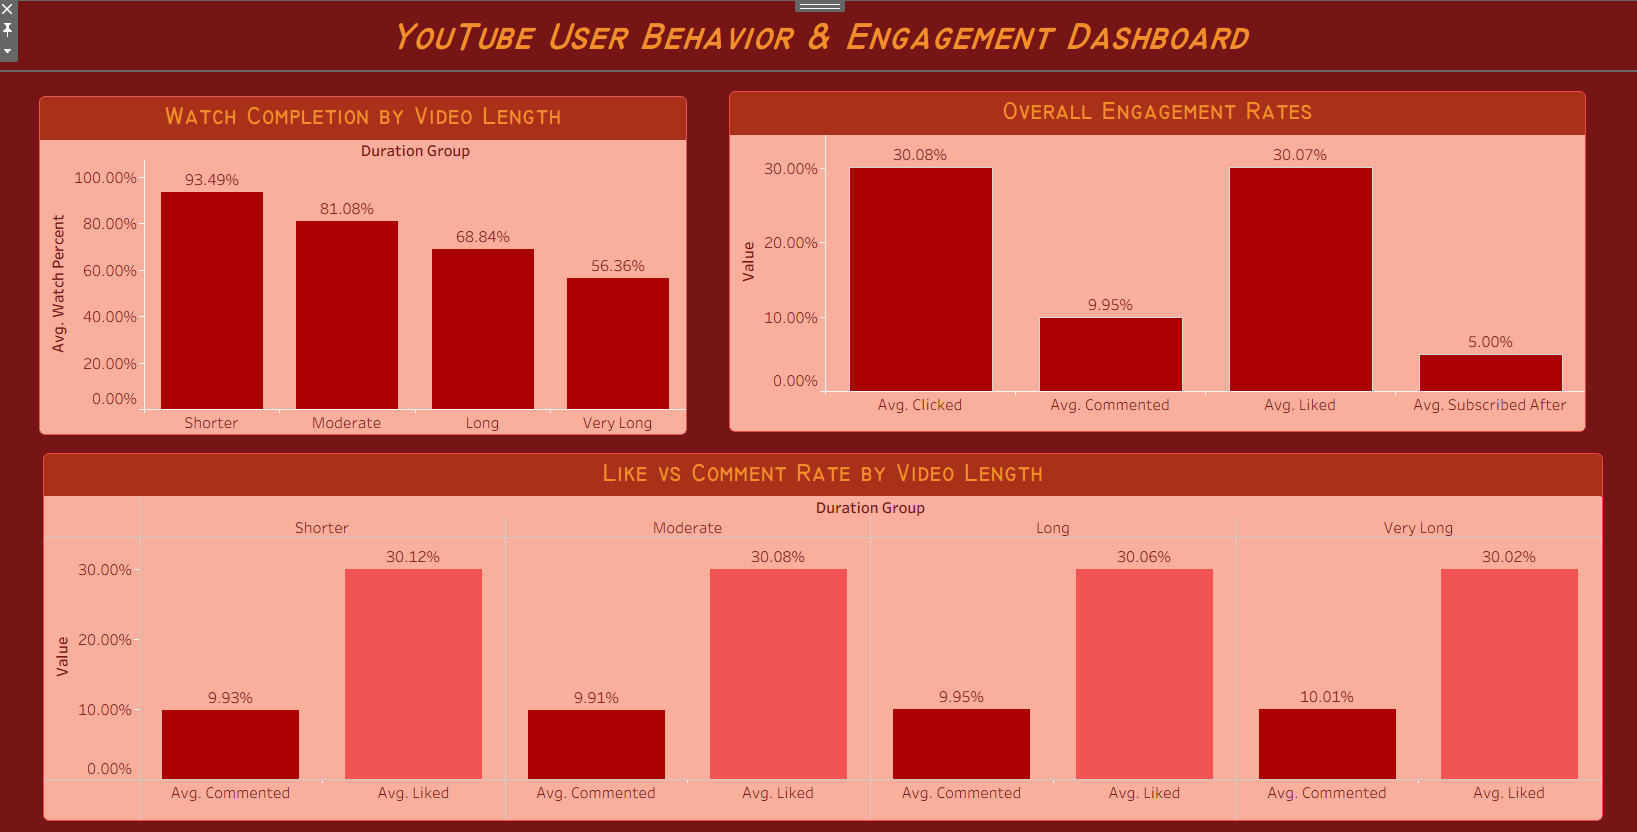

This screenshot's page, from the dashboard's own definition file:
{"tool":"tableau","page":{"name":"YouTube User Behavior & Engagement Dashboard","canvas":[1000,1000],"units":"permille","ordinal":1},"visuals":[{"type":"title","box":[4.8,9.4,990.3,81.2]},{"type":"worksheet","title":"Overall Engagement Rates","mark":"Automatic","box":[443,111.8,520.8,408.2]},{"type":"worksheet","title":"Watch Completion by Video Length","mark":"Automatic","rows":["watch_percent"],"cols":["duration_group"],"box":[28.4,121.2,391.1,398.8]},{"type":"worksheet","title":"Like vs Comment Rate by Video Length","mark":"Automatic","cols":["duration_group"],"box":[30.8,541.2,941.5,432.9]}]}

Visuals, with their boxes on the dashboard's canvas, which has no fixed pixel size, in thousandths of its width and height (x1, y1, x2, y2). These are canvas units, not pixel positions in the 1637x832 screenshot, which may show the page scaled, cropped or inside an application window:
title: bbox=(5, 9, 995, 91)
"Overall Engagement Rates" worksheet: bbox=(443, 112, 964, 520)
"Watch Completion by Video Length" worksheet: bbox=(28, 121, 420, 520)
"Like vs Comment Rate by Video Length" worksheet: bbox=(31, 541, 972, 974)
